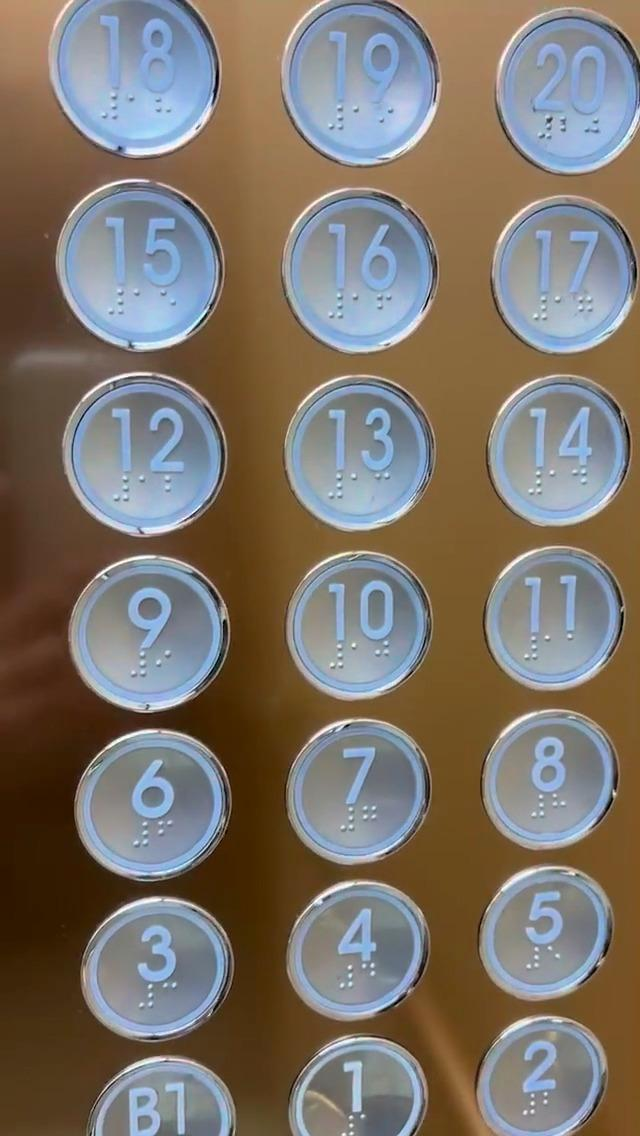button: (46, 183, 231, 356), (269, 189, 439, 367), (284, 0, 447, 180), (487, 177, 634, 366), (55, 0, 224, 164), (70, 373, 226, 539), (485, 8, 640, 174), (289, 543, 436, 711), (283, 376, 441, 527), (487, 379, 639, 531), (81, 729, 224, 889), (73, 569, 233, 710), (479, 707, 626, 856), (291, 720, 436, 871), (477, 550, 626, 693), (83, 906, 236, 1040), (286, 891, 427, 1020), (486, 873, 620, 1006), (480, 1027, 607, 1136), (292, 1048, 430, 1136), (97, 1055, 244, 1136)
